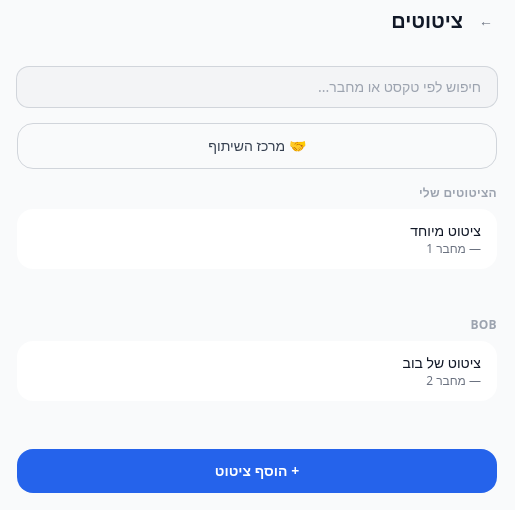
Scenario: Citations Sections by Creator › hides a section with no matches during search
Expected: the heading "הציטוטים שלי" is shown, [419, 184, 497, 201]
Type "מיוחד" into the field with placeholder "חיפוש לפי טקסט או מחבר..." at (257, 87), box [17, 67, 497, 107]
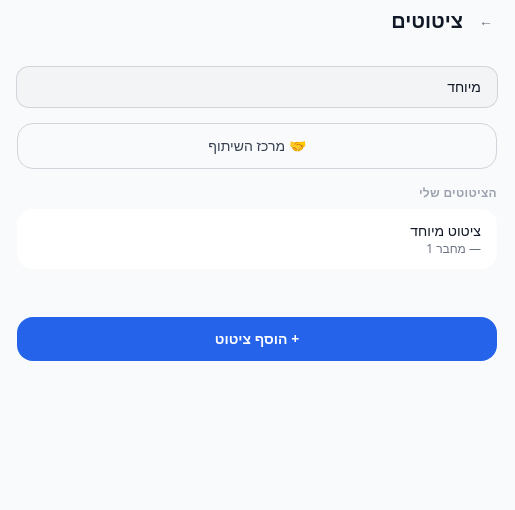
Expected: the heading "הציטוטים שלי" is shown, [419, 184, 497, 201]
Expected: the heading "bob" is gone
